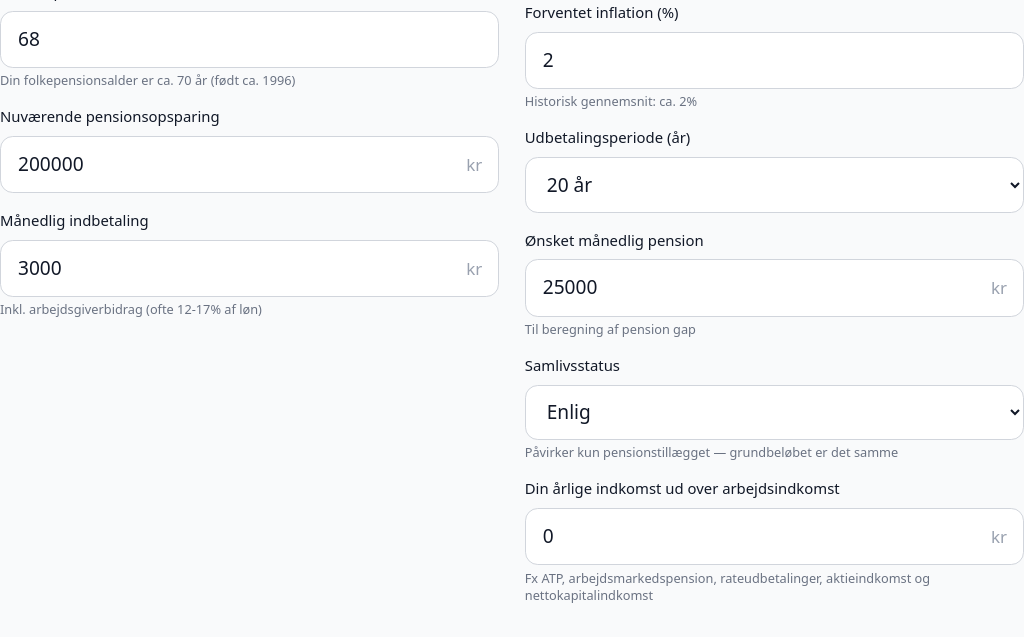
it: PensionBeregner — pensionstillæg efter indkomst › giver gifte og samlevende det lavere tillæg på 12.011 kr.
Select "Gift eller samlevende" in the dropdown labelled "Samlivsstatus" at [774, 412], box [525,385,1023,440]
(page scrolled)
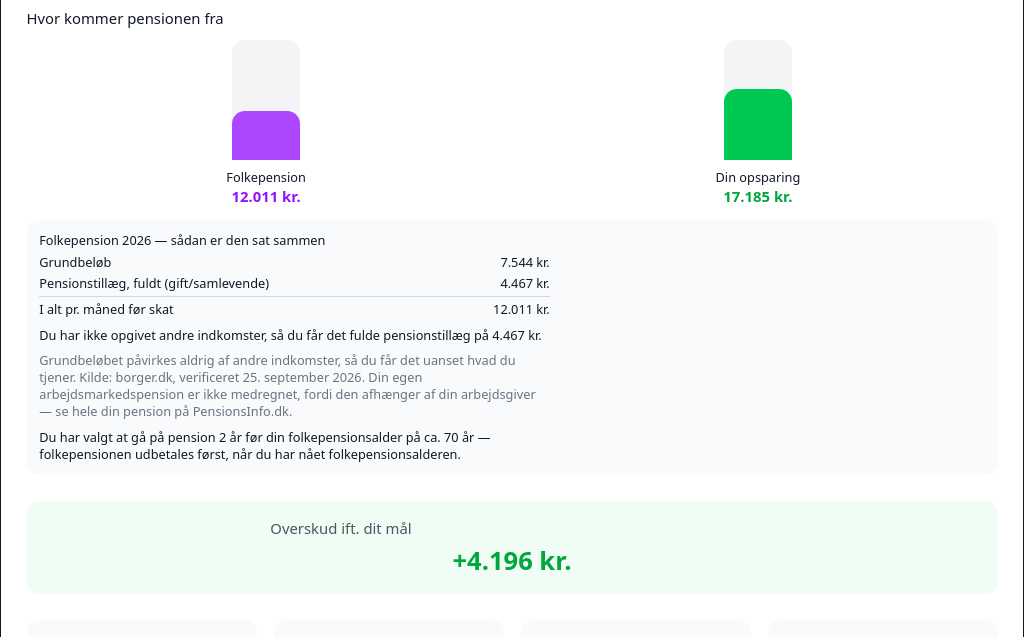
Expected: the list item "Grundbeløb 7.544 kr." is shown, [39,254,550,270]
Expected: the list item "I alt pr. måned før skat" reads "I alt pr. måned før skat 12.011 kr.", [493,300,550,318]
Expected: the list item "Pensionstillæg, fuldt (gift/samlevende) 4.467 kr." is shown, [39,275,550,292]
